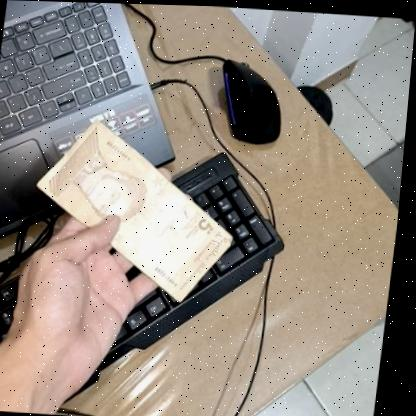vef_front: (28, 114, 249, 303)
